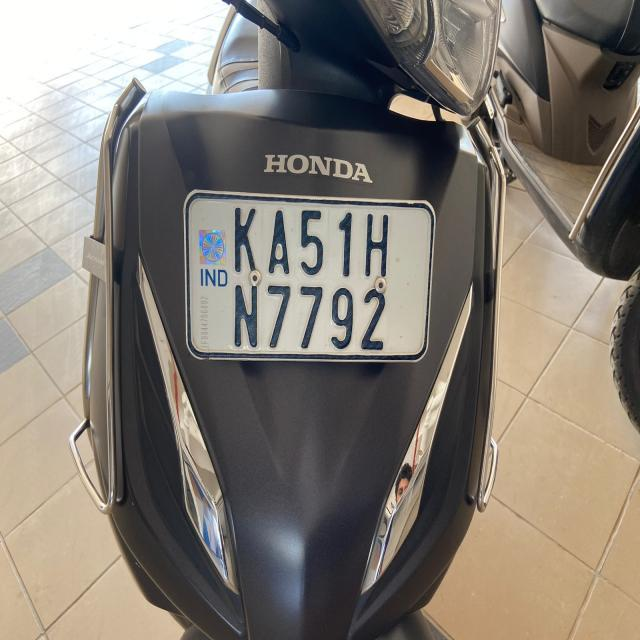1: (334, 207, 357, 281)
5: (298, 204, 329, 282)
7: (294, 282, 326, 352), (266, 278, 297, 350)
9: (330, 282, 356, 351)
A: (265, 206, 293, 280)
H: (358, 204, 396, 288)
K: (229, 202, 261, 280)
N: (226, 274, 262, 358)
